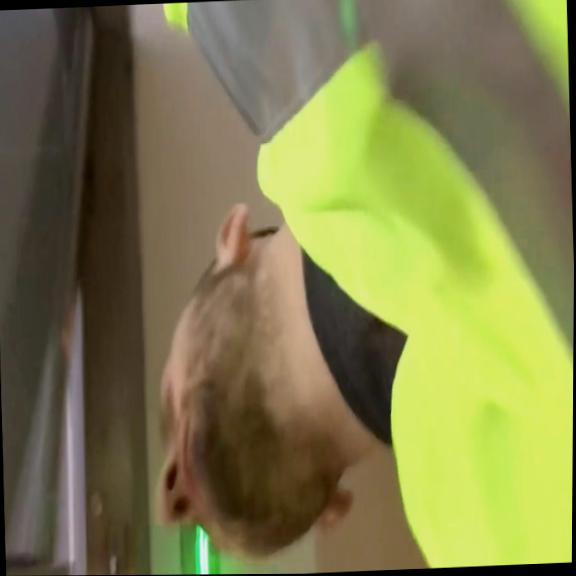safety_vest: (153, 0, 576, 575)
